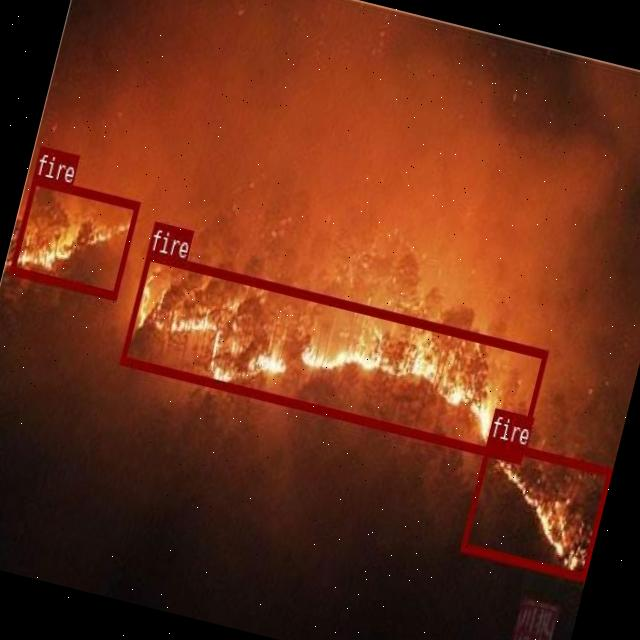fire: (118, 250, 548, 462), (459, 436, 611, 578), (8, 173, 140, 299)
